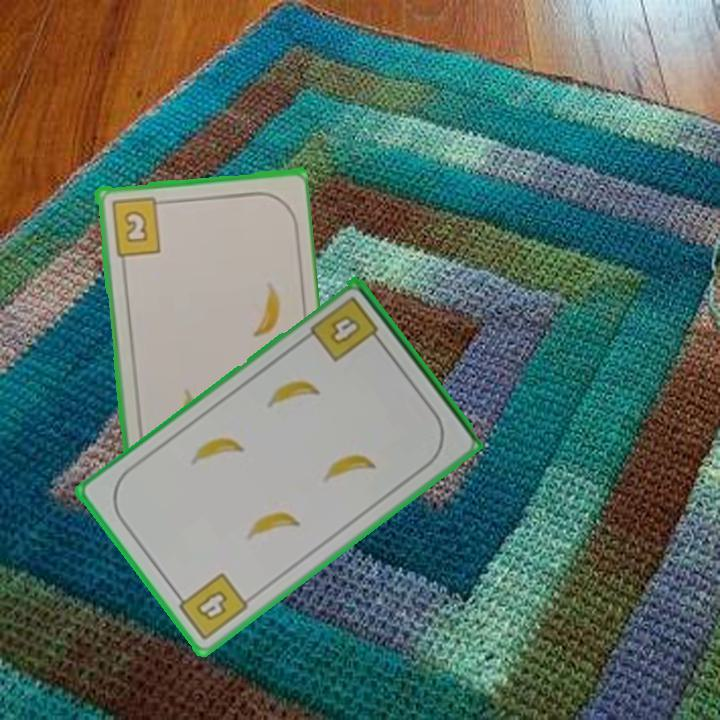2b: (107, 193, 169, 258)
4b: (170, 569, 251, 644), (306, 292, 386, 365)
